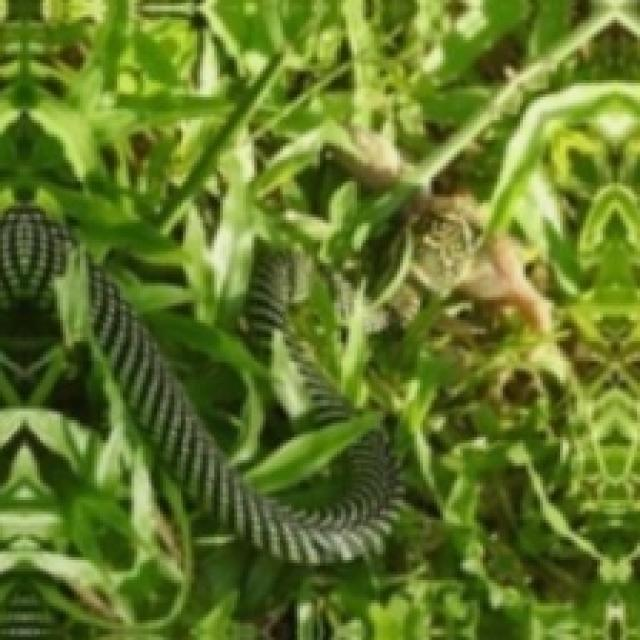paradise tree snake: (0, 209, 394, 560)
